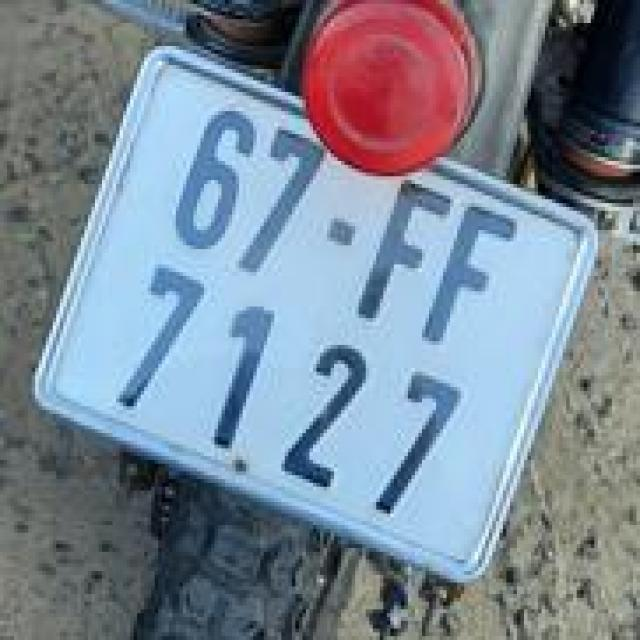1: (183, 287, 293, 460)
2: (268, 321, 394, 500)
6: (159, 93, 272, 261)
7: (352, 352, 484, 531), (96, 254, 218, 423), (225, 115, 342, 288)
F: (412, 188, 533, 365), (349, 166, 466, 341)
